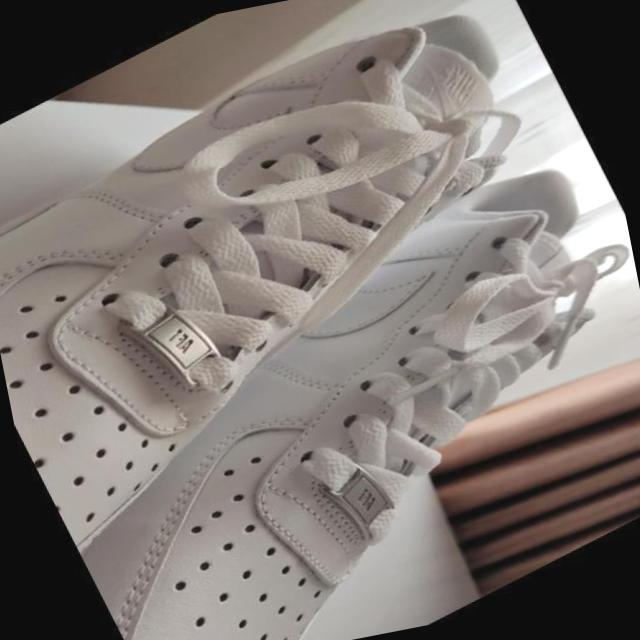nike_original_airforce: (0, 0, 640, 574), (0, 123, 640, 640)
